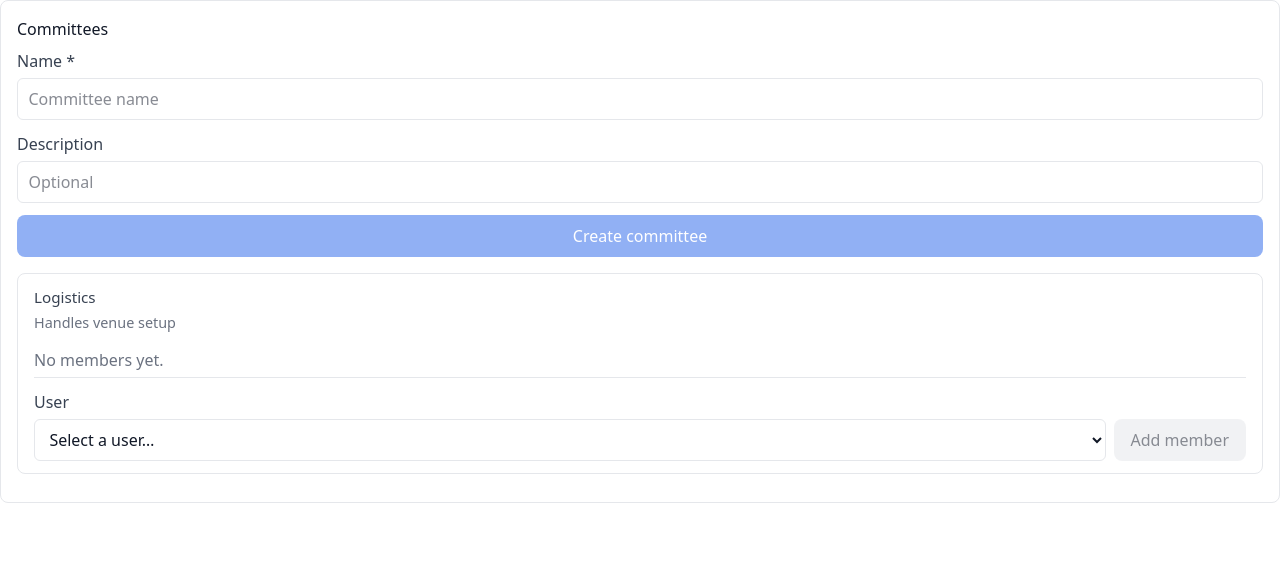
Scenario: CommitteesSection › adds a member through the directory picker when available
Select "Joy Ada (joy@x.com)" in the dropdown with test id "committee-member-select-c1": (570, 440) left=34, top=419, right=1106, bottom=461
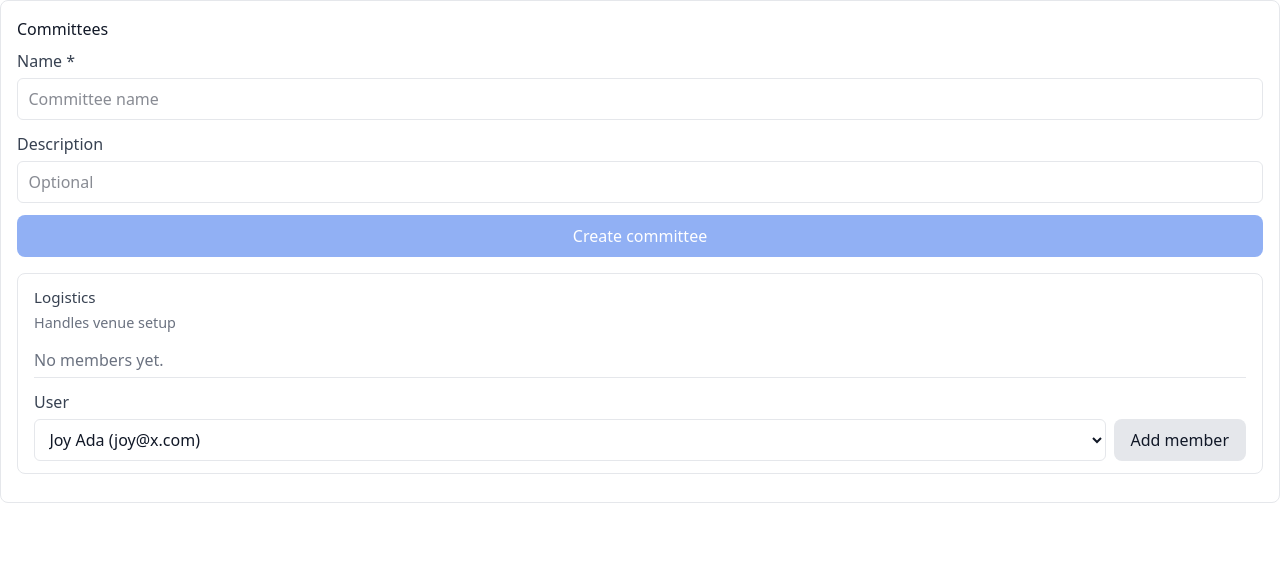
Submit the form with test id "committee-add-member-c1", box left=34, top=390, right=1246, bottom=461
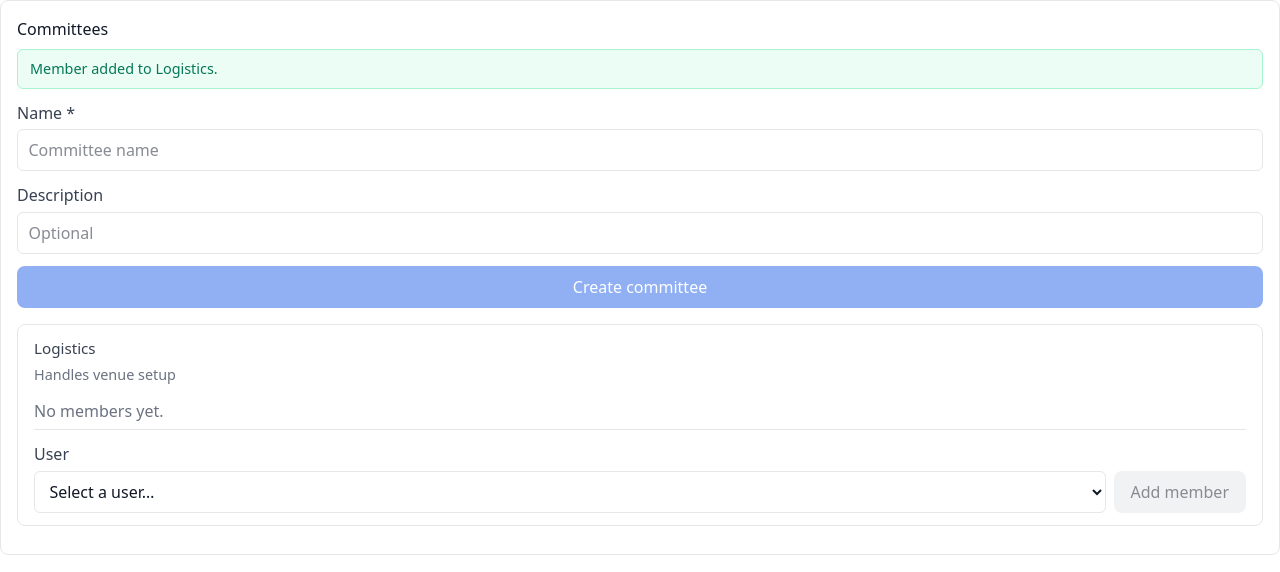
Now the message with test id "committees-notice" shows "Member added", box left=30, top=59, right=218, bottom=78
